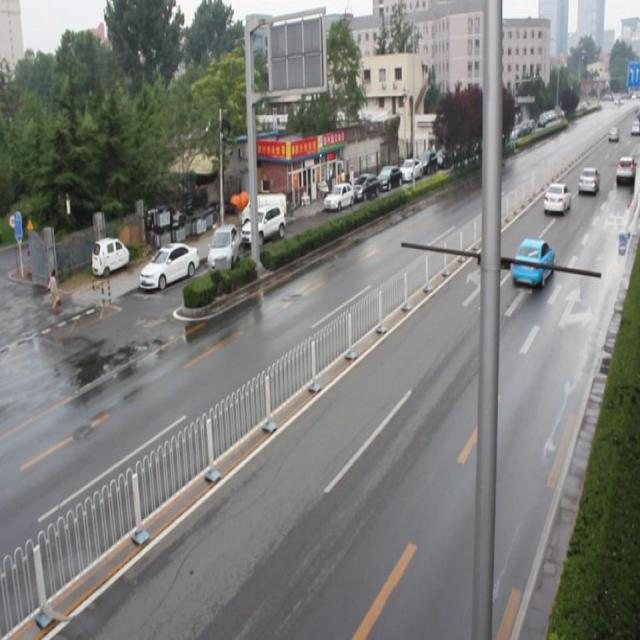car: (510, 234, 551, 292), (542, 179, 570, 214), (577, 166, 596, 194)
